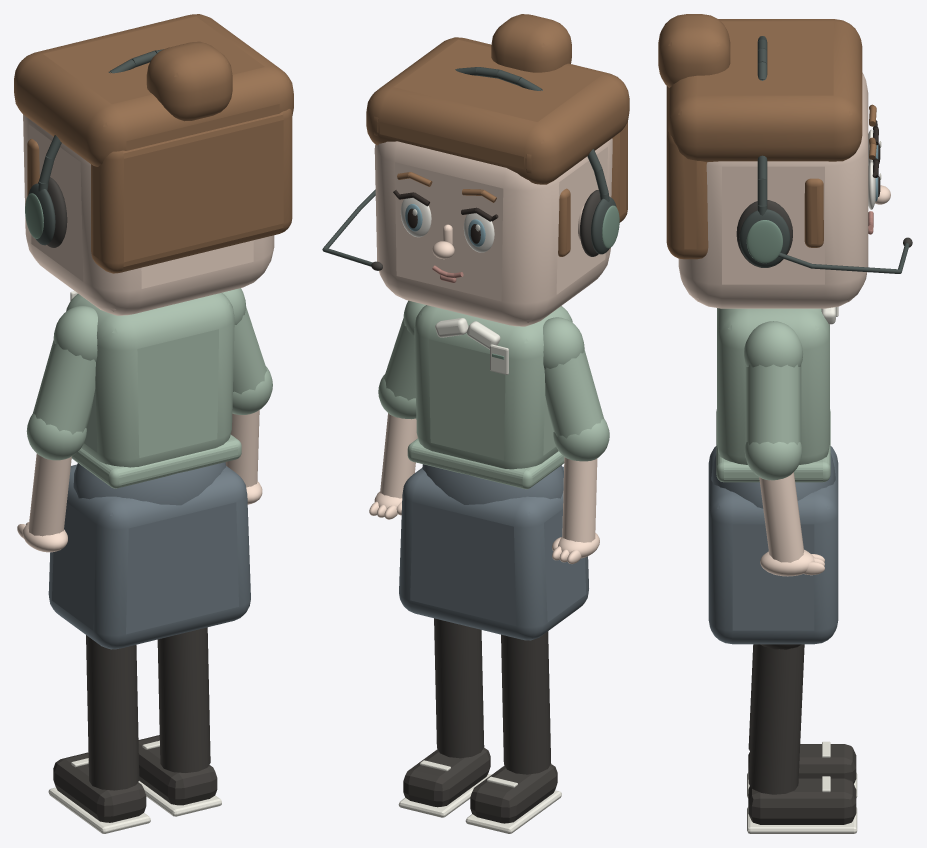
File: person-standing-3.glb
3 views of the same model, side by side, from view 1: azimuth 30°, elevation 25°; view 2: azimuth 150°, elevation 25°; view 3: azimuth 270°, elevation 25° (orthographic). The views are drawn at different scales.
Visible parts, largest first — view 1: Head.007, person-standing-3 Shirt, person-standing-3 Trousers, person-standing-3 Shoes, ForearmL.007, person-standing-3 Warm porcelain, ForearmR.007; view 2: Head.007, person-standing-3 Shirt, person-standing-3 Trousers, person-standing-3 Shoes, person-standing-3 Warm porcelain, ForearmL.007, ForearmR.007; view 3: Head.007, person-standing-3 Shirt, person-standing-3 Trousers, person-standing-3 Shoes, ForearmR.007, person-standing-3 Warm porcelain.
Boxes of the visible parts, x1,y1,x2,y2 form: Head.007: (14,14,293,315); person-standing-3 Shirt: (26,288,272,488); person-standing-3 Trousers: (48,462,250,649); person-standing-3 Shoes: (53,627,217,822); ForearmL.007: (17,453,71,552); person-standing-3 Warm porcelain: (48,291,221,833); ForearmR.007: (225,410,262,504); Head.007: (322,14,629,326); person-standing-3 Shirt: (378,300,609,489); person-standing-3 Trousers: (399,464,588,640); person-standing-3 Shoes: (403,618,557,823); person-standing-3 Warm porcelain: (398,318,561,833); ForearmL.007: (552,457,599,563); ForearmR.007: (369,413,417,519); Head.007: (658,14,912,308); person-standing-3 Shirt: (716,308,830,482); person-standing-3 Trousers: (708,446,838,644); person-standing-3 Shoes: (748,644,856,824); ForearmR.007: (759,472,824,576); person-standing-3 Warm porcelain: (747,306,857,833).
Bounding box in the file's own units: 0.592 × 1.81 × 0.53.
